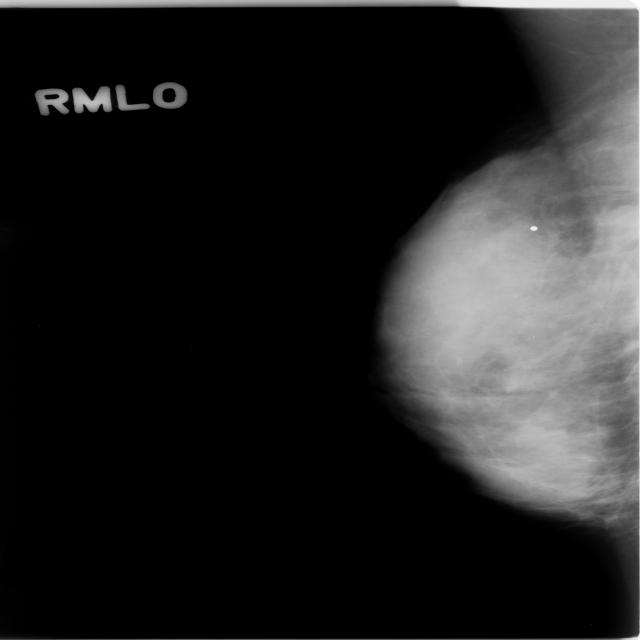cancer: (361, 167, 640, 517)
